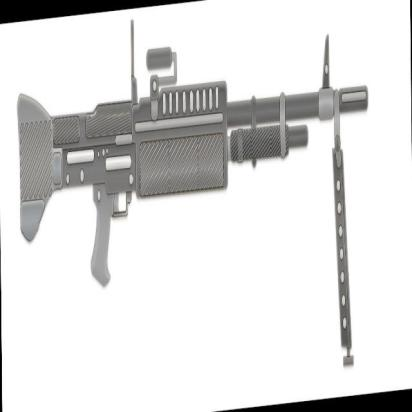Gun: (8, 13, 376, 303)
